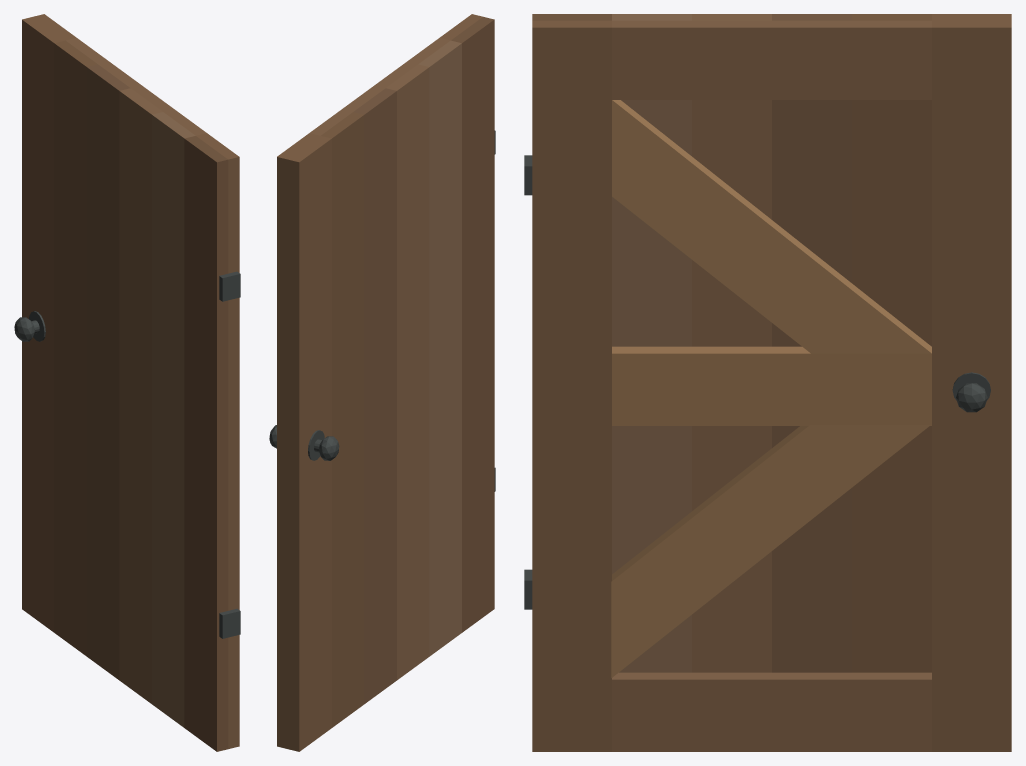
The model's file is door.glb.
The picture shows the model from 3 angles, left to right: view 1: azimuth 30°, elevation 25°; view 2: azimuth 150°, elevation 25°; view 3: azimuth 270°, elevation 25°; orthographic projection. The views are drawn at different scales.
Parts seen in each view (by area): view 1: Cube.009; view 2: Cube.009; view 3: Cube.009.
Part boxes in pixels (x1,y1,x2,y2): Cube.009: (14, 14, 240, 751); Cube.009: (269, 14, 495, 751); Cube.009: (524, 14, 1011, 751).
Size of what is drawn, in the model's own units: 0.29 by 2.5 by 1.52.
